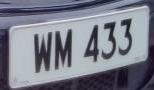3: (100, 19, 119, 62), (117, 14, 134, 60)
4: (82, 19, 102, 69)
M: (53, 26, 76, 76)
W: (31, 28, 56, 78)
